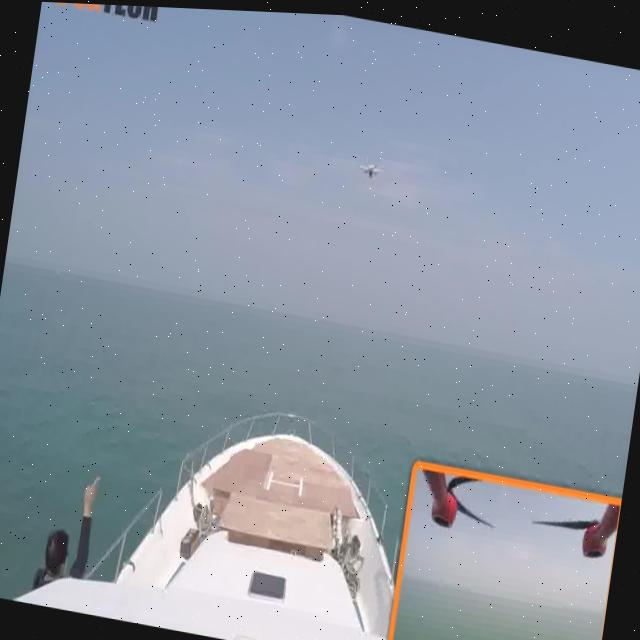drone: (341, 149, 389, 209)
